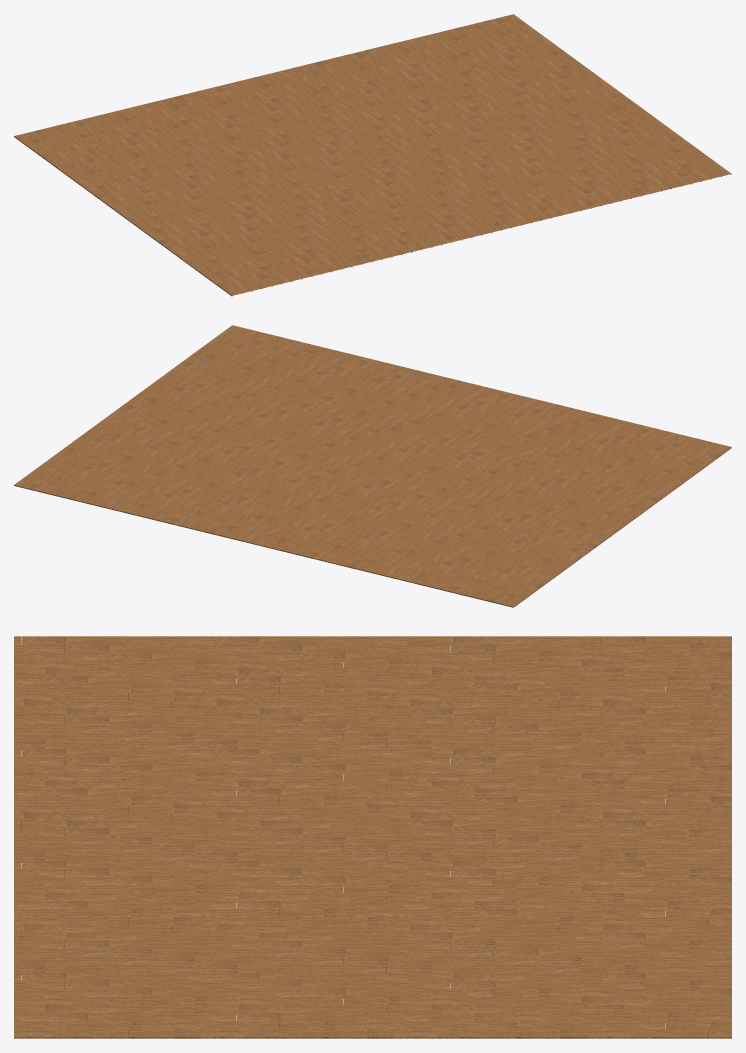
File: kinkiTypeOneDefoult1.gltf
3 views of the same model, one above another, from view 1: azimuth 30°, elevation 25°; view 2: azimuth 150°, elevation 25°; view 3: azimuth 270°, elevation 25° (orthographic). The views are drawn at different scales.
Visible parts, largest first — view 1: kinkiTypeOneDefoult1; view 2: kinkiTypeOneDefoult1; view 3: kinkiTypeOneDefoult1.
Part boxes in pixels (x1,y1,x2,y2): kinkiTypeOneDefoult1: [14, 14, 731, 296]; kinkiTypeOneDefoult1: [14, 325, 731, 607]; kinkiTypeOneDefoult1: [14, 636, 731, 1038].
Bounding box in the file's own units: 7.4 × 0.0134 × 5.6.
Materials: 1 (1 with a texture image).
